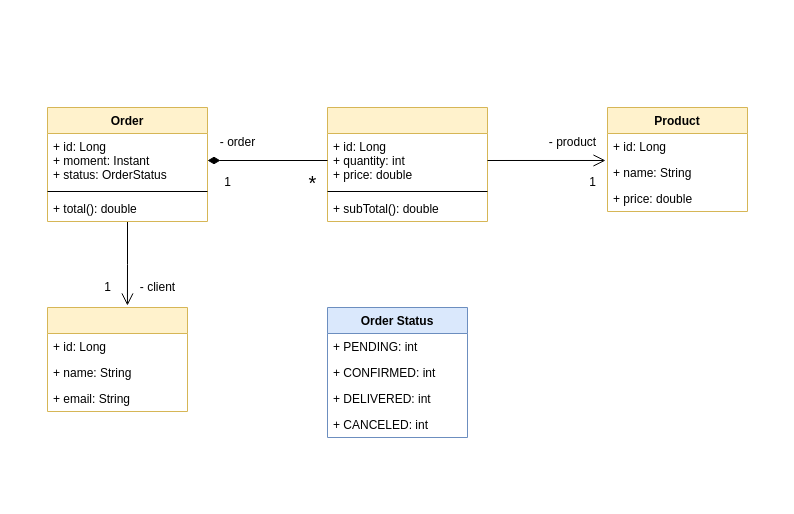
This 794x514 diagram has some shape labels left out. The box of each missing label's shape, as (x1, y1, x2, y2) in pixels:
Client: (46, 306, 188, 412)
Order Item: (326, 106, 488, 222)
